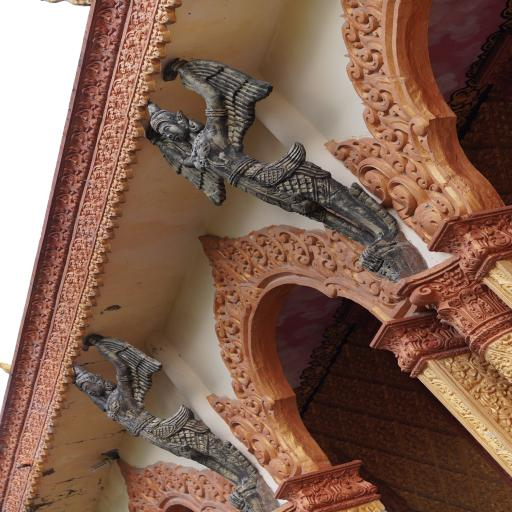la: (201, 393, 291, 480), (323, 227, 397, 308), (334, 56, 400, 114), (191, 235, 246, 295), (353, 108, 414, 158), (333, 20, 388, 73), (389, 319, 461, 353), (432, 226, 483, 274), (460, 212, 512, 259), (268, 224, 312, 272), (352, 162, 399, 204), (375, 328, 416, 374), (409, 188, 450, 234), (201, 293, 250, 330), (300, 227, 336, 277), (218, 237, 258, 281), (226, 379, 274, 413), (207, 320, 253, 354), (214, 347, 255, 385), (252, 226, 286, 270), (386, 180, 426, 217), (233, 236, 271, 272), (337, 0, 381, 30), (327, 138, 361, 169)
than: (119, 54, 436, 294), (51, 338, 278, 512)
